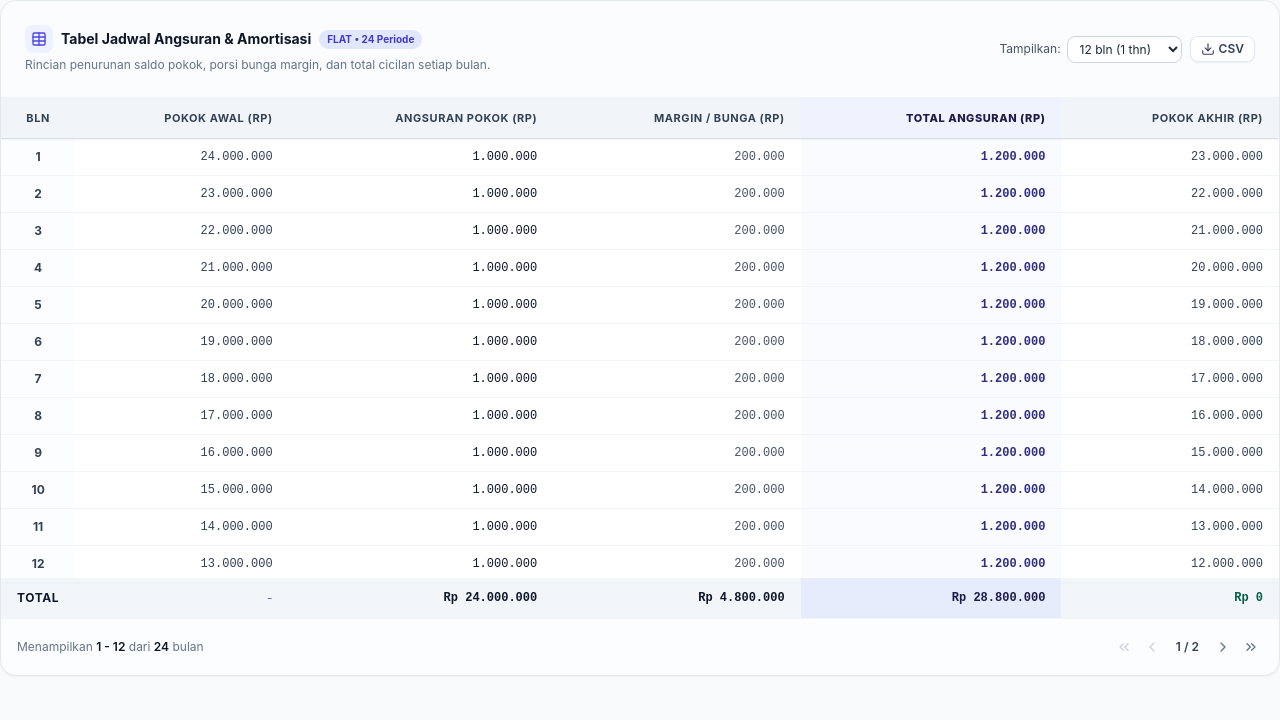
TASK-050: Amortization UI Table Tests › should paginate correctly with default 12 rows per page and navigate between pages
The image size is (1280, 720).
Expected: the row with test id "amortization-row-1" is shown, [1, 138, 1279, 176]
Expected: the row with test id "amortization-row-12" is shown, [1, 546, 1279, 583]
Click Next Page
Click the button with test id "amortization-page-next". click: {"x": 1223, "y": 647}
box: [1211, 635, 1235, 659]
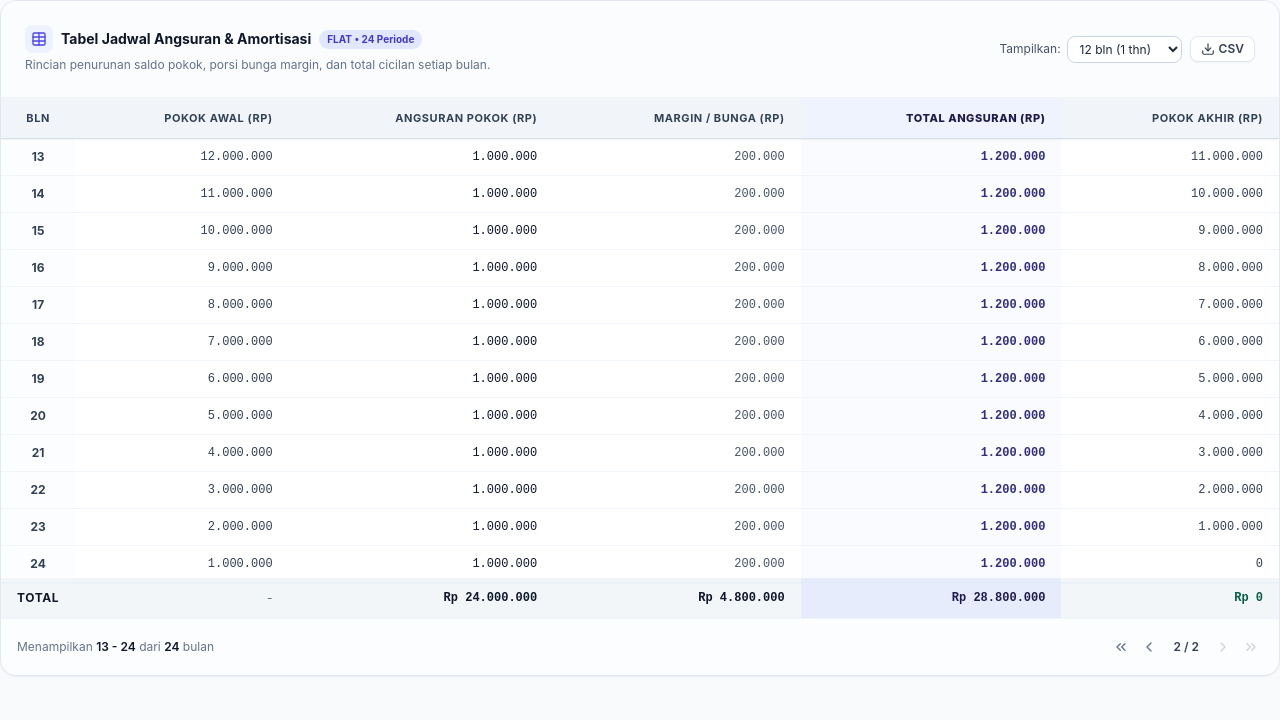
Expected: the row with test id "amortization-row-1" is gone
Expected: the row with test id "amortization-row-13" is shown, [1, 138, 1279, 176]
Expected: the row with test id "amortization-row-24" is shown, [1, 546, 1279, 583]
